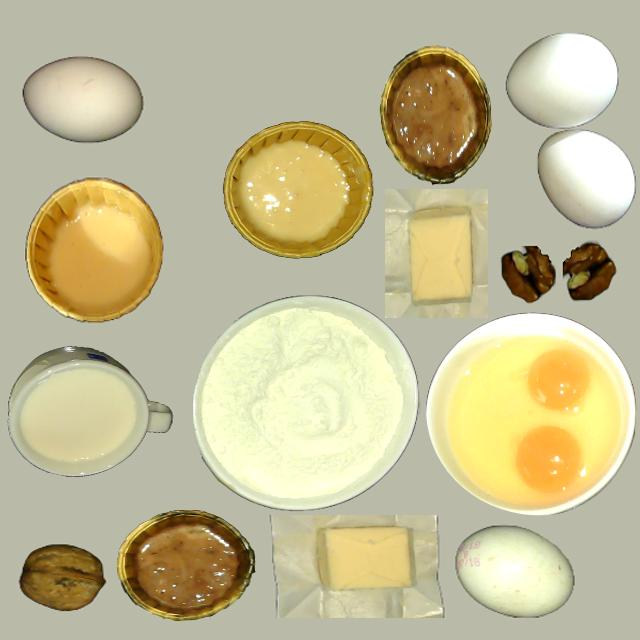Egg: (516, 426, 582, 492), (528, 348, 592, 411)
Flour: (194, 302, 408, 507)
Milk: (18, 366, 140, 468)
Walnut: (18, 544, 104, 610)
